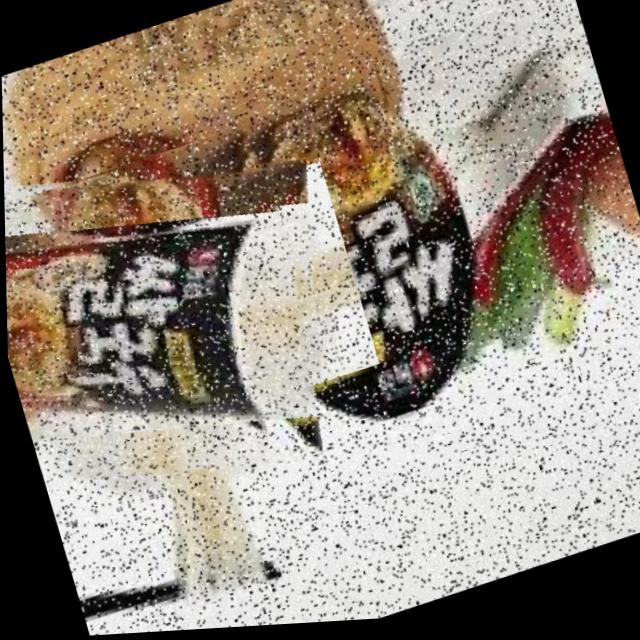Miscellaneous: (2, 113, 366, 532)
